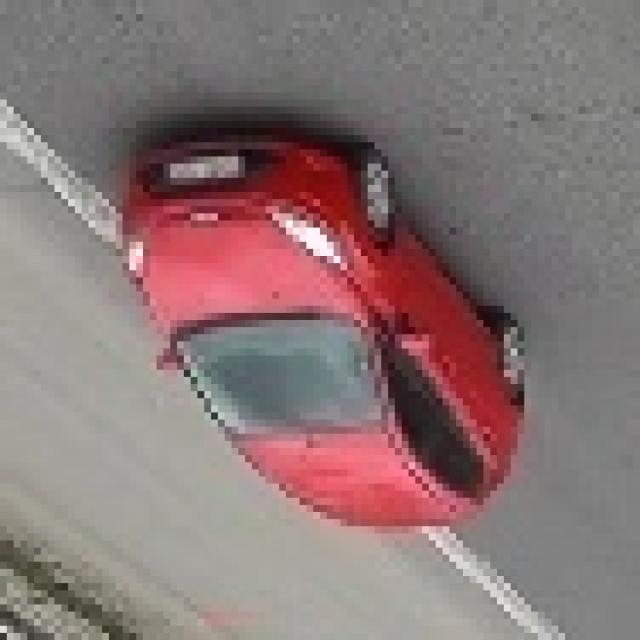red: (121, 139, 522, 525)
